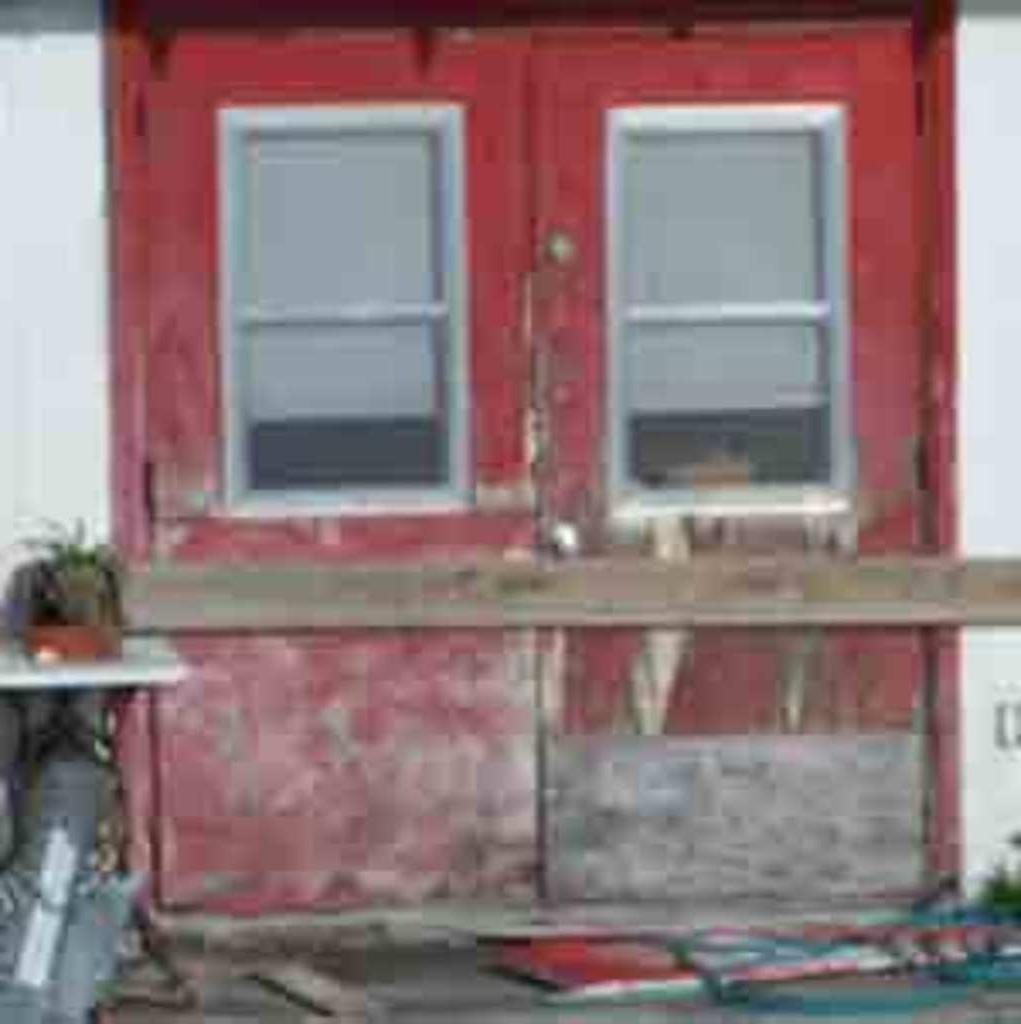door: (534, 30, 908, 886), (158, 67, 523, 902)
